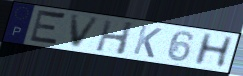6: (167, 29, 196, 63)
E: (27, 8, 69, 48)
H: (191, 32, 236, 69), (94, 19, 136, 57)
K: (131, 24, 164, 59)
V: (69, 14, 103, 49)
